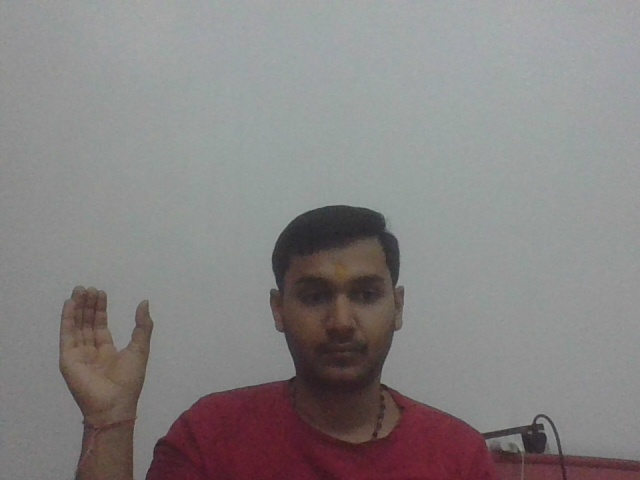U: (52, 280, 167, 409)
